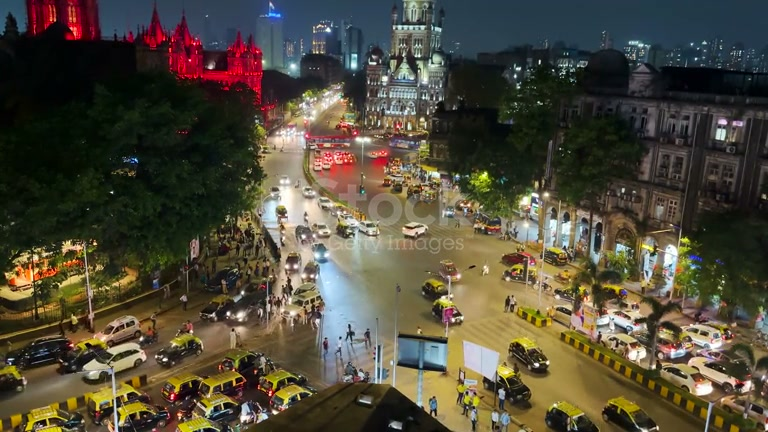car: (78, 343, 146, 384), (601, 395, 660, 432), (482, 366, 532, 409), (9, 337, 74, 370), (657, 364, 715, 398), (543, 399, 600, 432), (507, 336, 551, 375), (57, 344, 113, 374), (269, 381, 316, 415), (155, 335, 204, 367), (100, 315, 141, 347), (0, 361, 27, 393), (421, 276, 449, 300), (438, 260, 461, 280), (402, 223, 428, 238)
pedestrian: (509, 295, 517, 314)
